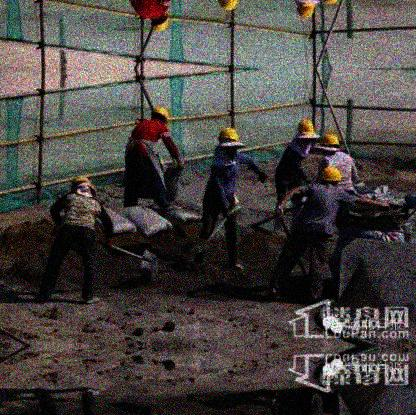helmet: (219, 126, 238, 158), (292, 121, 314, 148), (319, 135, 341, 153), (321, 166, 340, 186)
